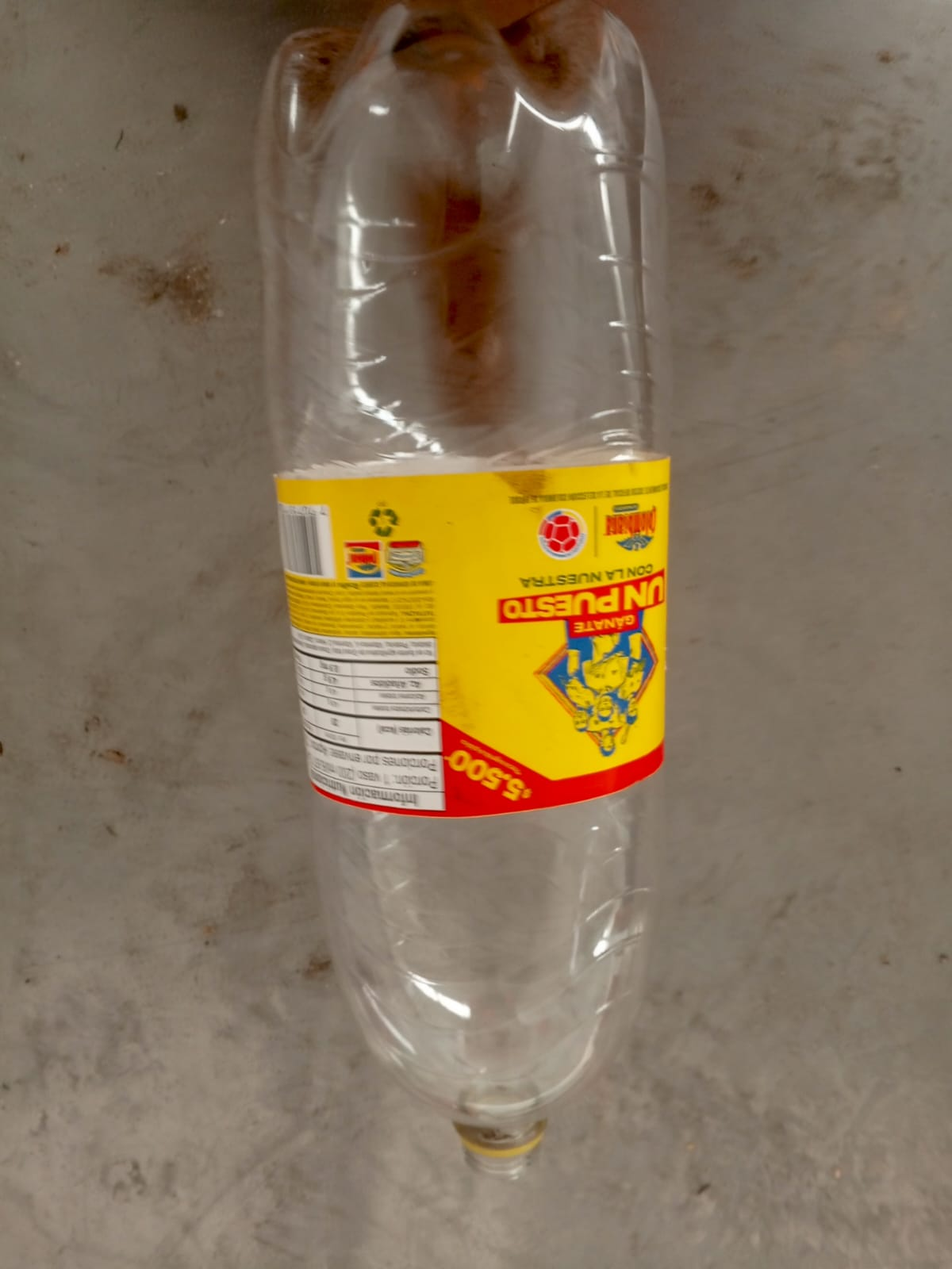Plastico: (253, 0, 673, 1173)
